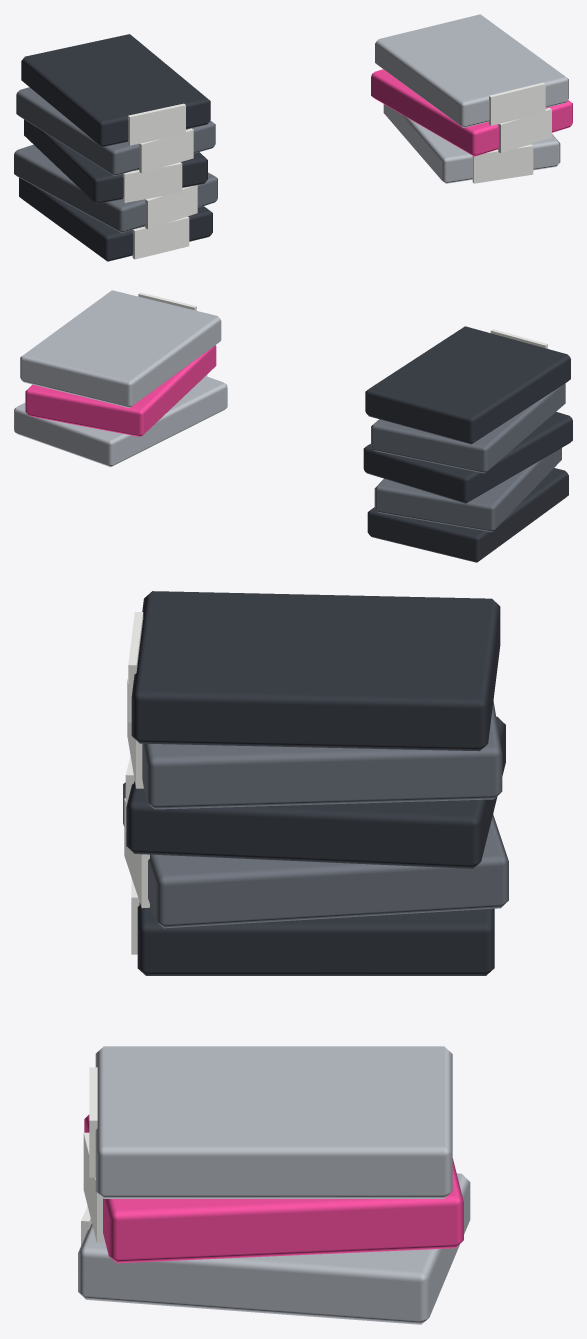
File: station_transport_ausstattung_2_0.glb
3 renders of one model, top to bottom at view 1: azimuth 30°, elevation 25°; view 2: azimuth 150°, elevation 25°; view 3: azimuth 270°, elevation 25°, orthographic. The views are drawn at different scales.
Visible parts, largest first — view 1: station_transport_ausstattung_2_0; view 2: station_transport_ausstattung_2_0; view 3: station_transport_ausstattung_2_0.
Boxes of the visible parts, x1,y1,x2,y2 form: station_transport_ausstattung_2_0: (14,14,572,261); station_transport_ausstattung_2_0: (14,290,572,562); station_transport_ausstattung_2_0: (78,591,508,1324).
Bounding box in the file's own units: 0.5238 × 0.15 × 0.2054.
